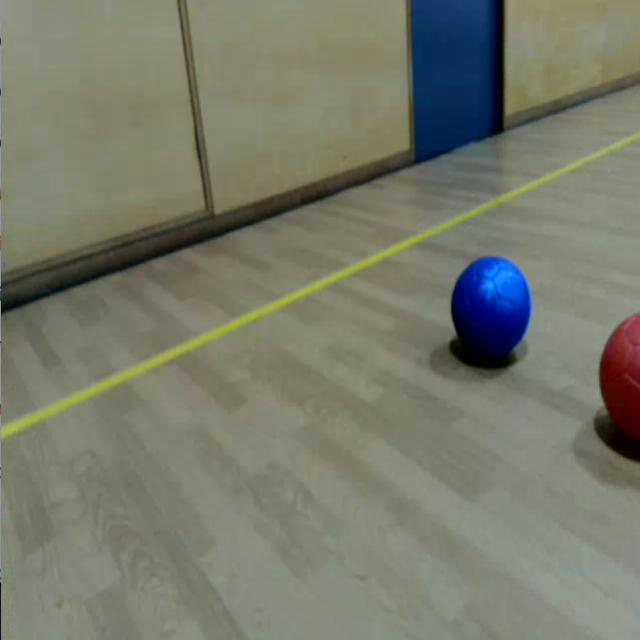blue_ball: (448, 252, 532, 366)
red_ball: (598, 306, 640, 446)
